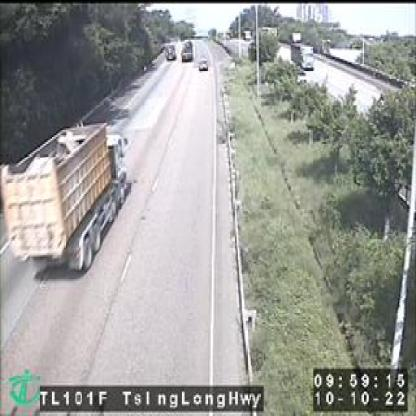Bus: (0, 124, 130, 279)
Car: (197, 56, 209, 71)
